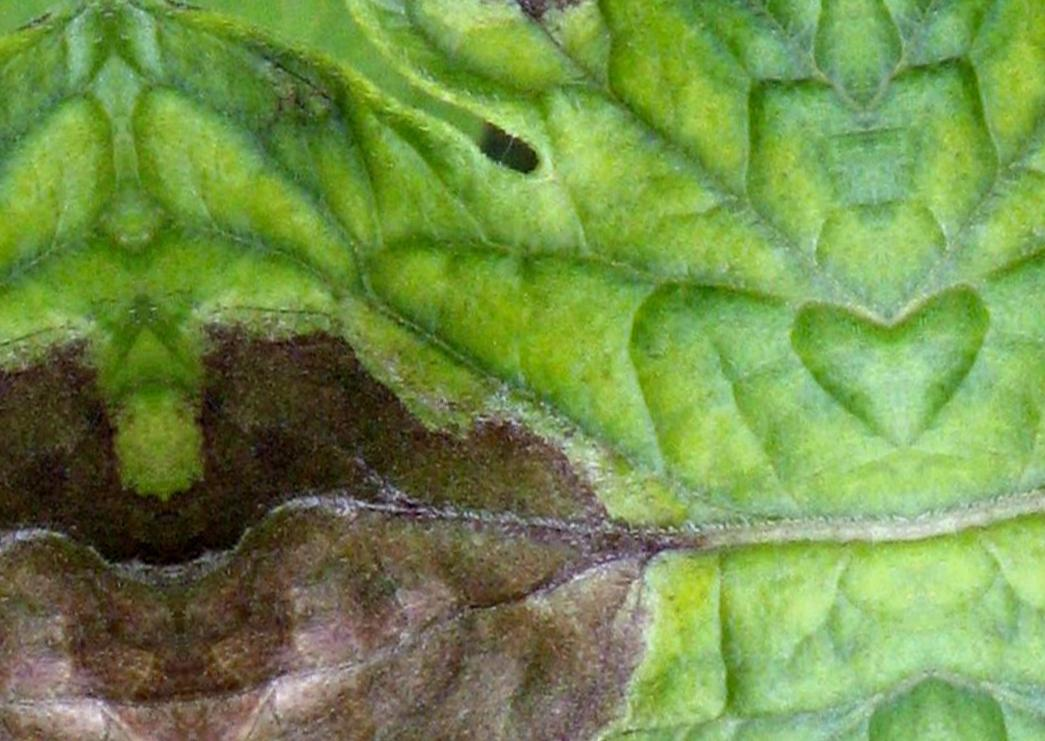Tomato leaf late blight: (94, 0, 951, 741)
